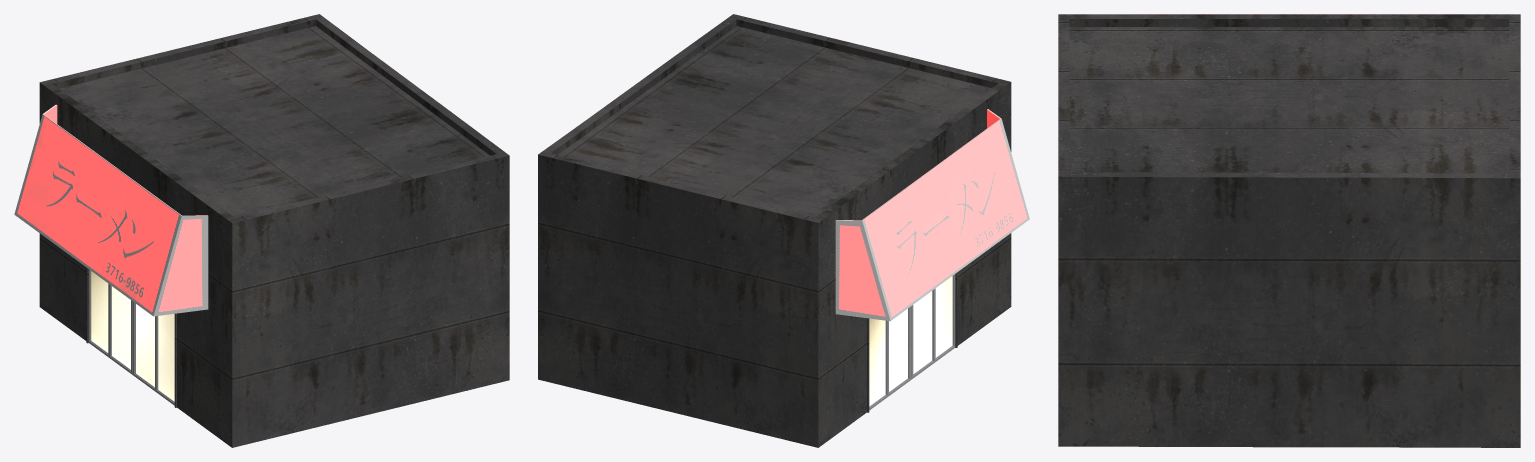
File: Build 28.fbx
3 renders of one model, left to right at view 1: azimuth 30°, elevation 25°; view 2: azimuth 150°, elevation 25°; view 3: azimuth 270°, elevation 25°, orthographic. The views are drawn at different scales.
Parts seen in each view (by area): view 1: Cube.041, Cube.069, Cube.067; view 2: Cube.041, Cube.069, Cube.067; view 3: Cube.041.
Boxes of the visible parts, x1,y1,x2,y2 form: Cube.041: [39, 14, 509, 447]; Cube.069: [14, 104, 208, 316]; Cube.067: [89, 269, 174, 405]; Cube.041: [538, 14, 1011, 447]; Cube.069: [835, 109, 1029, 321]; Cube.067: [869, 274, 955, 410]; Cube.041: [1058, 14, 1520, 447].
Bounding box in the file's own units: 1266 × 827 × 1285.
4 materials, 2 textured.
